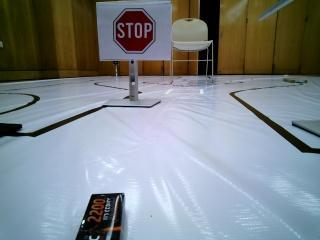stop: (98, 1, 172, 60)
